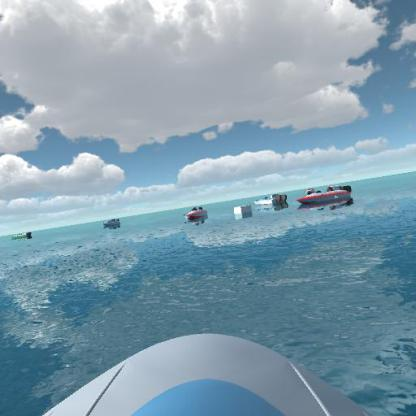usv0: (9, 228, 34, 242)
usv1: (252, 189, 288, 213), (100, 216, 122, 230)
usv3: (295, 182, 357, 210), (183, 204, 209, 224)
